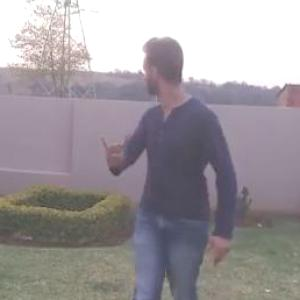takeoff-hand: (93, 126, 134, 173)
